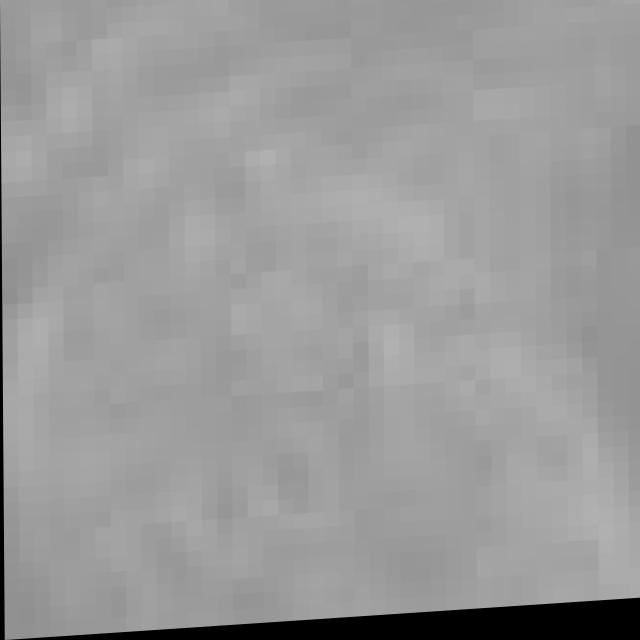fracture: (2, 0, 640, 619)
